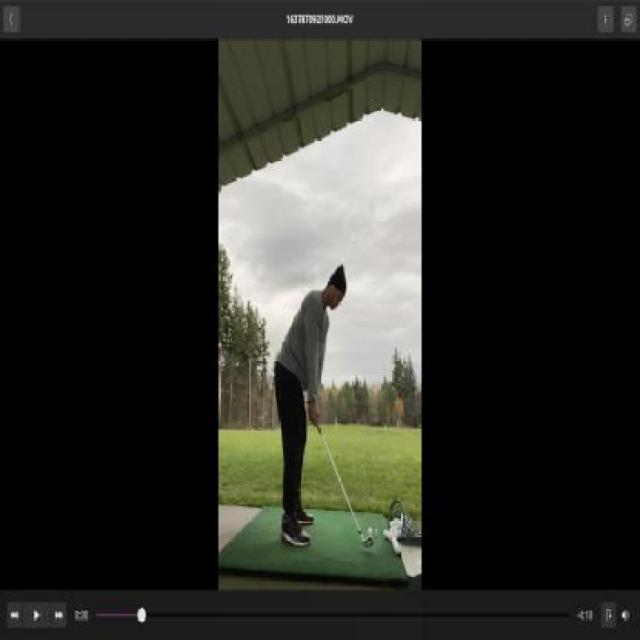club head: (360, 534, 374, 548)
